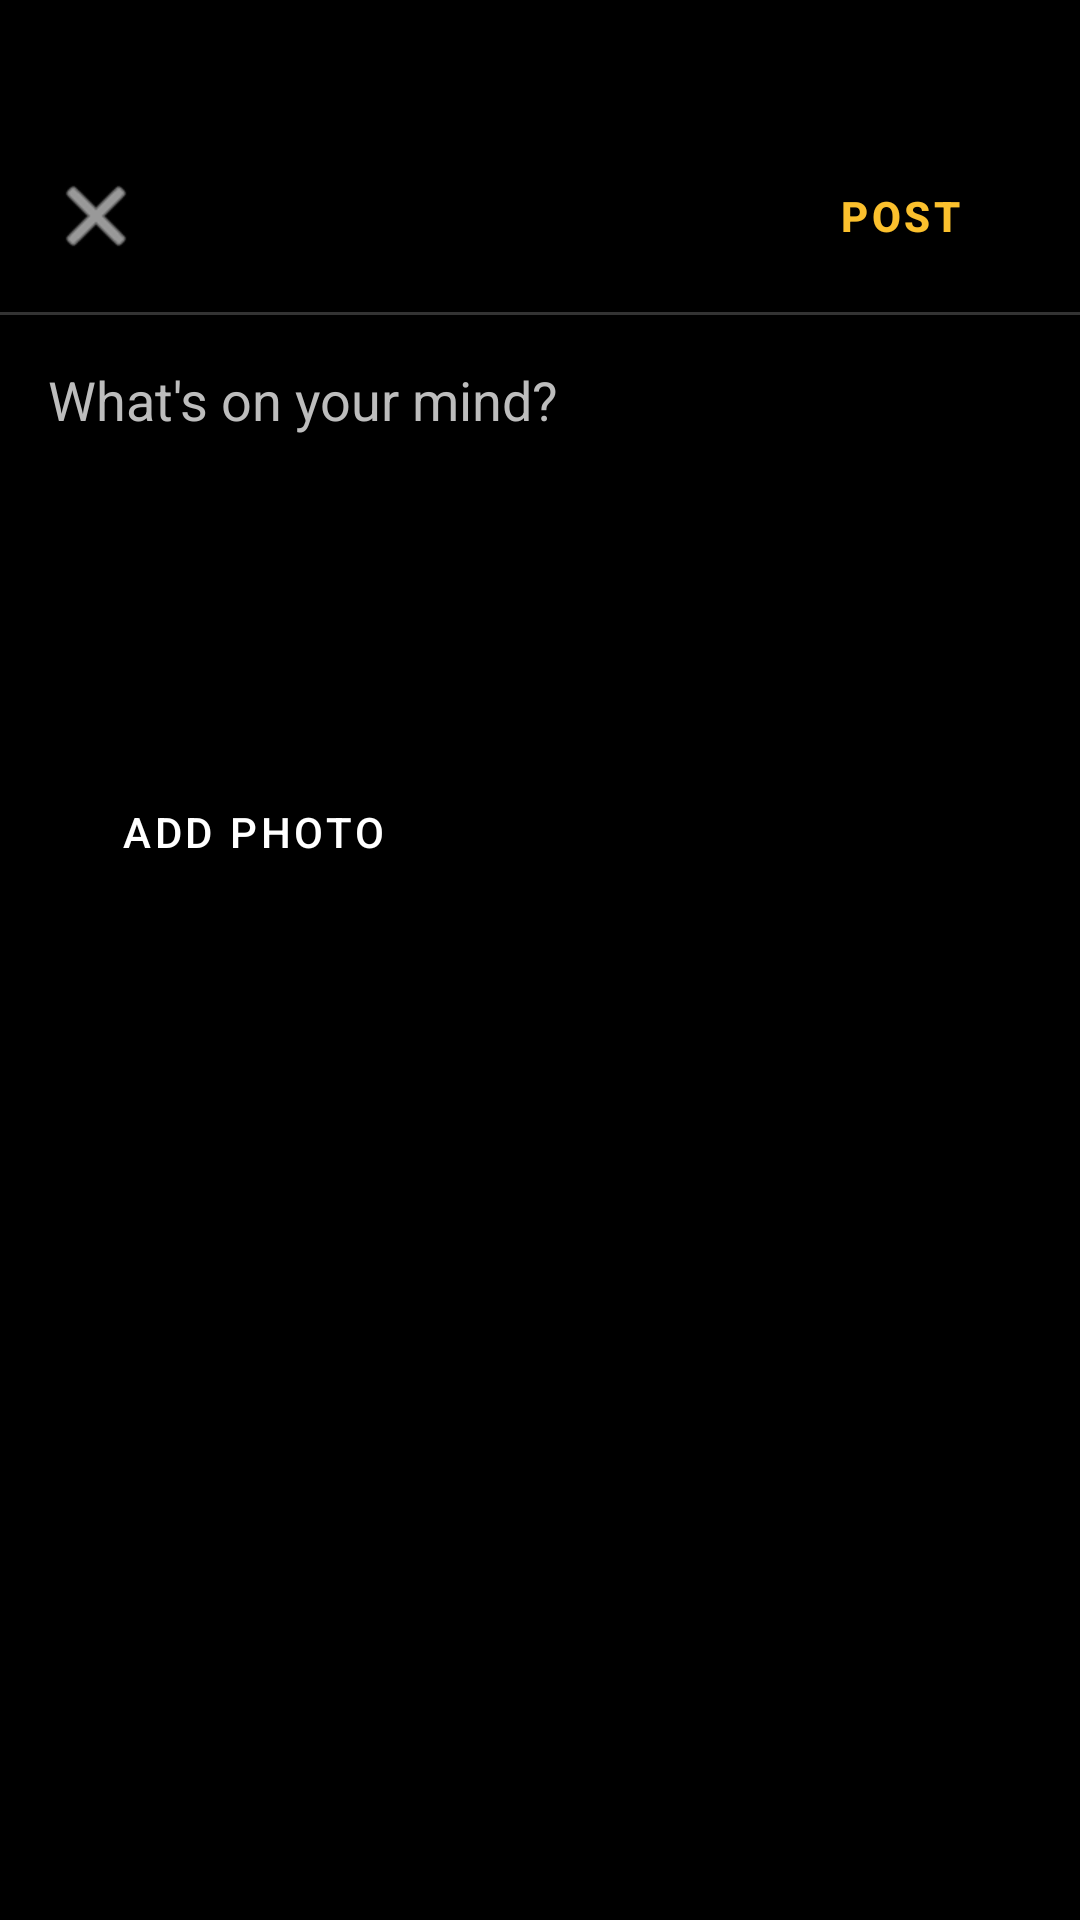

Locate icon controls on the screen. Image size 1080w x 1920h, boxes as [x1=x1, y1=y1, x2=x2, y2=y2].
close clear cancel: [x1=66, y1=186, x2=126, y2=246]
